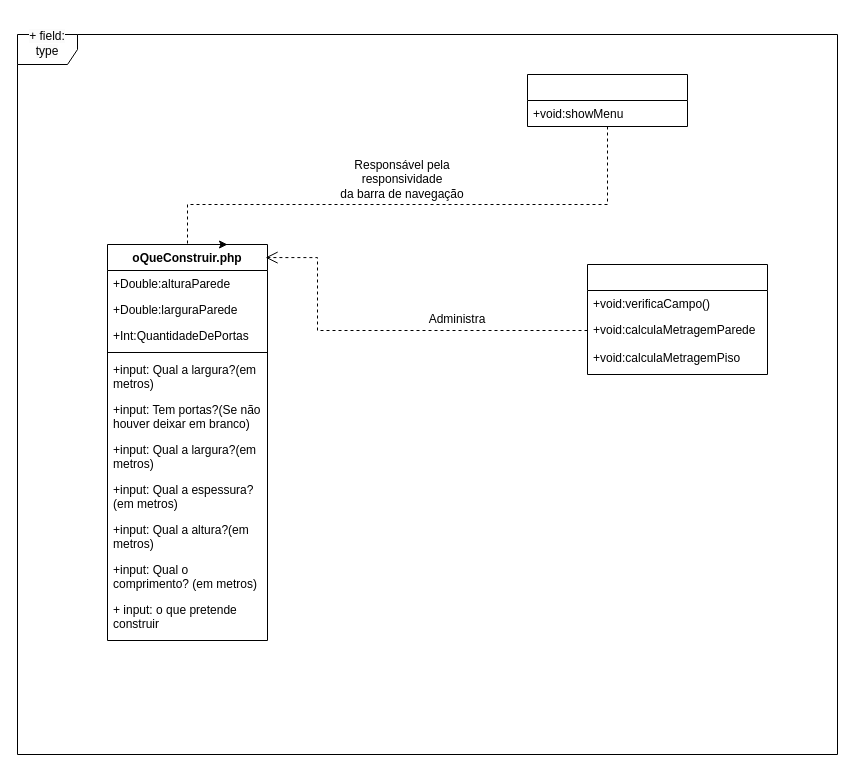
The diagram is 855 pixels wide and 772 high, and some of its shapes have lost their labels. Each missing label, with the box of its shape:
mobileNavbar: (526, 74, 688, 126)
oqconstruirController.js: (586, 264, 768, 374)
